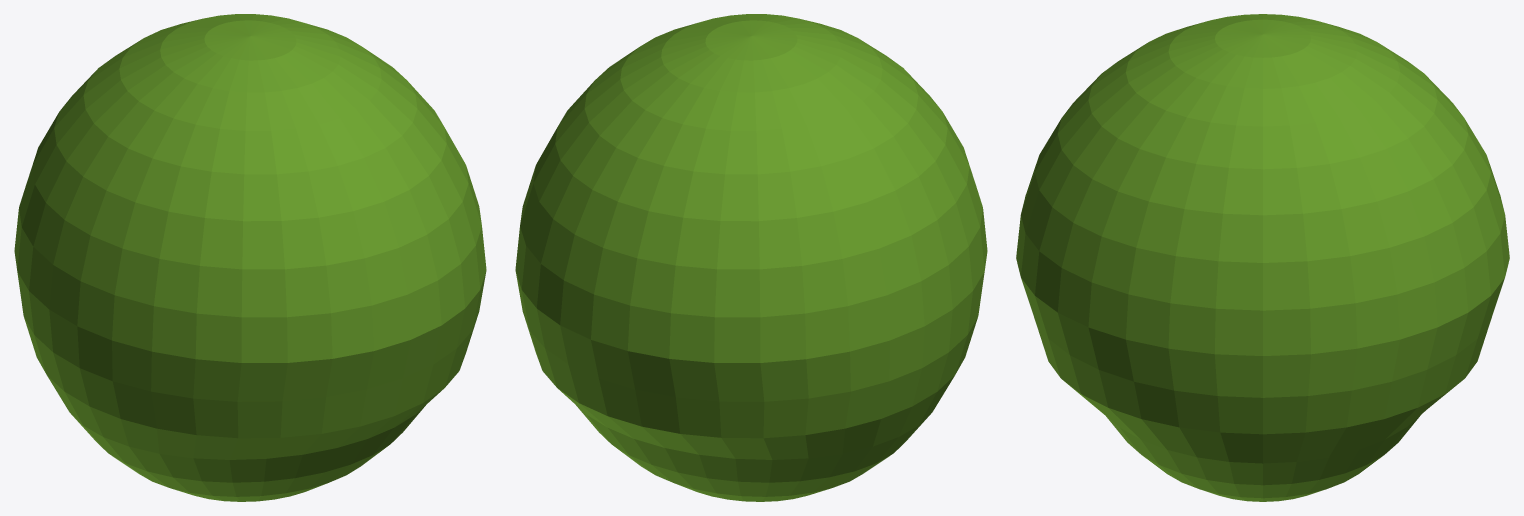
Rendered from cactusfat.fbx.
The picture shows the model from 3 angles, left to right: view 1: azimuth 30°, elevation 25°; view 2: azimuth 150°, elevation 25°; view 3: azimuth 270°, elevation 25°; orthographic projection.
Visible parts, largest first — view 1: Sphere.001; view 2: Sphere.001; view 3: Sphere.001.
Part boxes in pixels (x1,y1,x2,y2): Sphere.001: (14,14,486,501); Sphere.001: (515,14,987,501); Sphere.001: (1016,14,1509,501).
Bounding box in the file's own units: 188 × 200 × 200.
